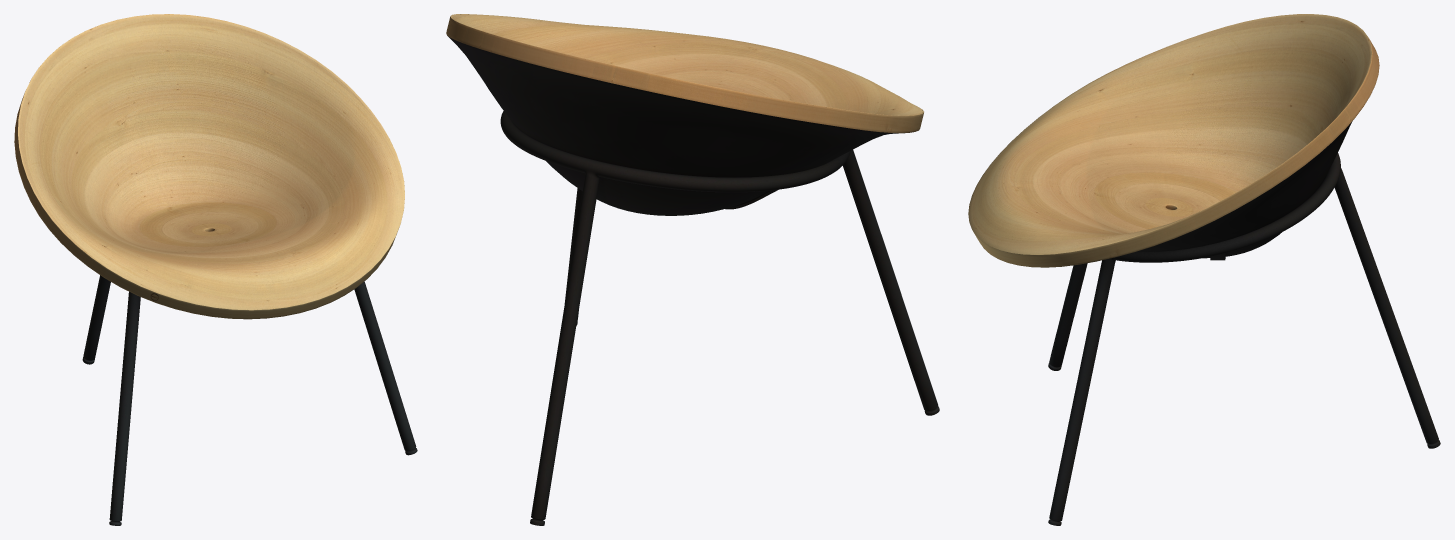
File: chair_sagano.glb
3 renders of one model, left to right at view 1: azimuth 30°, elevation 25°; view 2: azimuth 150°, elevation 25°; view 3: azimuth 270°, elevation 25°, orthographic. The views are drawn at different scales.
Visible parts, largest first — view 1: Object001__0, Sang_16 - Default_0; view 2: Object002_Material #31_0, Object001__0, Sang_16 - Default_0; view 3: Object001__0, Sang_16 - Default_0, Object002_Material #31_0.
Boxes of the visible parts, x1,y1,x2,y2 form: Object001__0: (14, 14, 404, 319); Sang_16 - Default_0: (82, 275, 417, 525); Object002_Material #31_0: (447, 35, 904, 215); Object001__0: (446, 14, 923, 133); Sang_16 - Default_0: (500, 111, 939, 525); Object001__0: (968, 14, 1379, 267); Sang_16 - Default_0: (1048, 153, 1440, 525); Object002_Material #31_0: (1138, 121, 1352, 258).
Size of the model in its own units: 0.6156 by 0.6313 by 0.6849.
3 materials, 3 textured.
